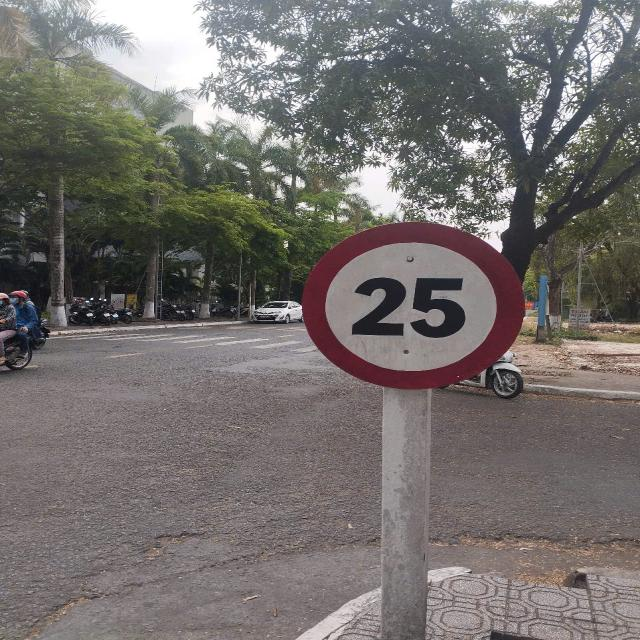Tre_Em: (299, 220, 527, 392)
